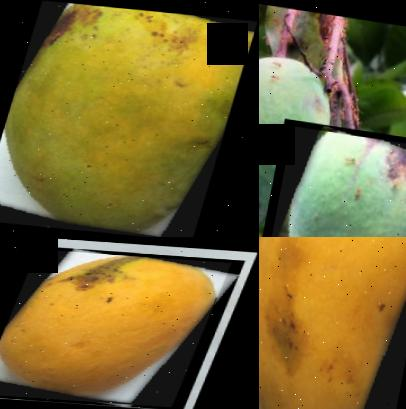PartiallyRipe: (0, 0, 259, 237)
Ripe: (0, 249, 233, 408), (259, 237, 406, 409)
Unripe: (259, 125, 406, 237)
